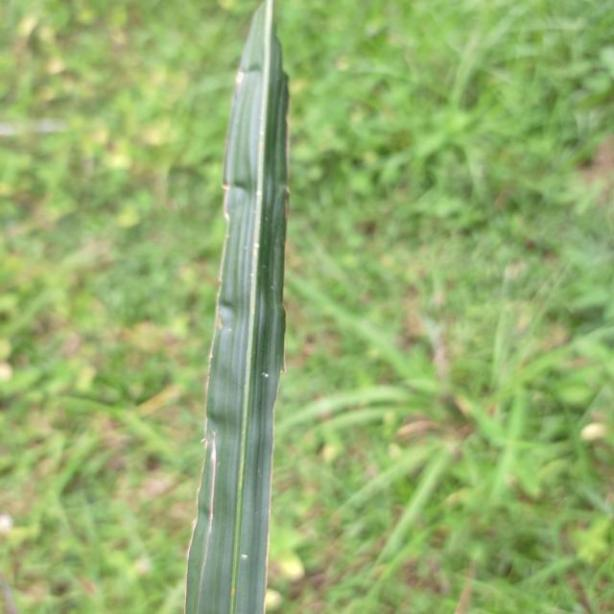Boron: (182, 0, 293, 614)
